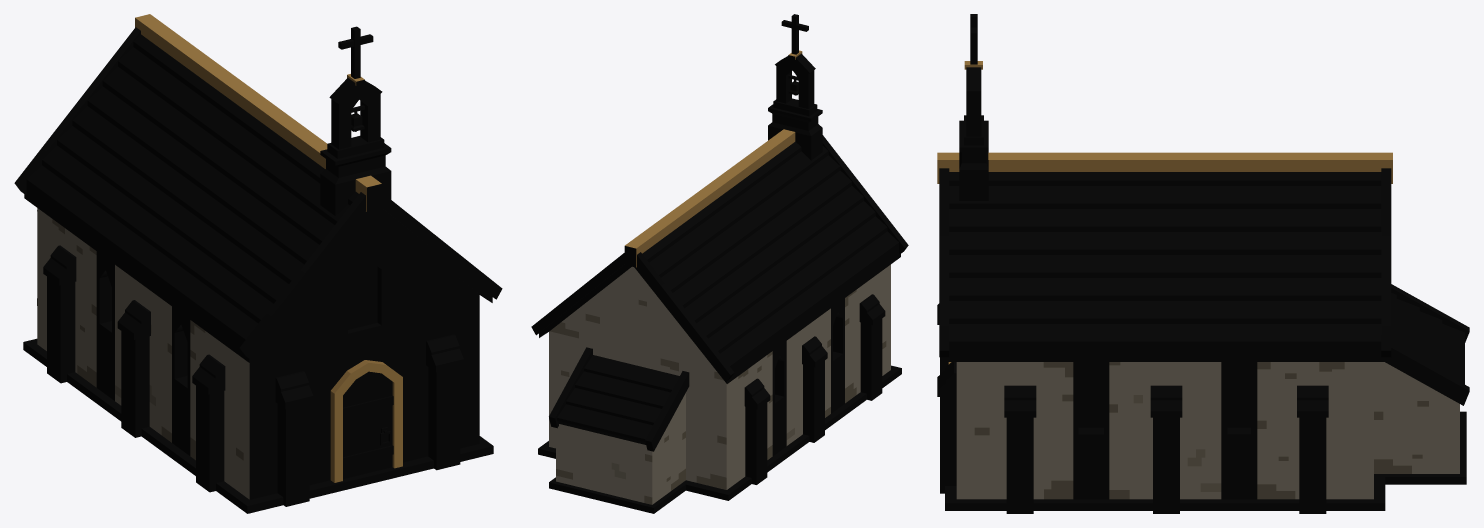
Rendered from House_Church.gltf.
3 renders of one model, left to right at view 1: azimuth 30°, elevation 25°; view 2: azimuth 150°, elevation 25°; view 3: azimuth 270°, elevation 25°, orthographic. The views are drawn at different scales.
Visible parts, largest first — view 1: SF_Bld_House_Church_01; view 2: SF_Bld_House_Church_01; view 3: SF_Bld_House_Church_01.
Boxes of the visible parts, box(x1,y1,x2,y2) form: SF_Bld_House_Church_01: box(14, 14, 502, 513); SF_Bld_House_Church_01: box(531, 14, 908, 513); SF_Bld_House_Church_01: box(937, 14, 1469, 513).
Bounding box in the file's own units: 0.1023 × 0.1646 × 0.182.
1 material, 1 textured.
